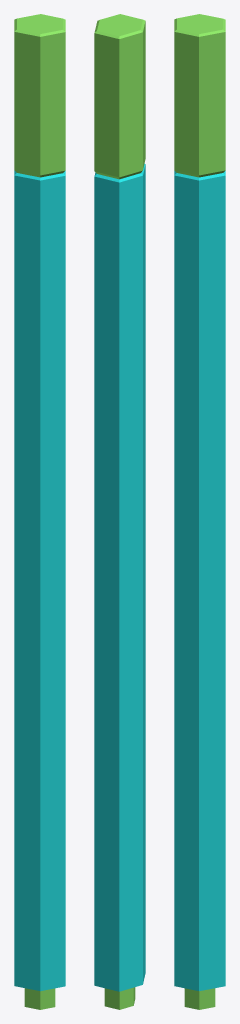
Rendered from pen.fbx.
3 views of the same model, side by side, from view 1: azimuth 90°, elevation 25°; view 2: azimuth 150°, elevation 25°; view 3: azimuth 270°, elevation 25° (orthographic).
Parts seen in each view (by area): view 1: Plane.001; view 2: Plane.001; view 3: Plane.001.
Part boxes in pixels (x1,y1,x2,y2): Plane.001: (14,14,65,1009); Plane.001: (94,14,145,1009); Plane.001: (174,14,225,1009).
Size of the model in its own units: 25.12 by 514 by 24.33.
